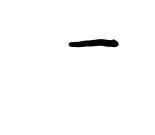minus: (68, 38, 117, 47)
